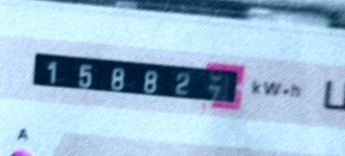1: (43, 58, 60, 85)
2: (173, 69, 190, 95)
5: (75, 61, 94, 88)
7: (206, 81, 221, 101)
8: (108, 65, 126, 92), (141, 67, 158, 94)
screen: (16, 35, 254, 121)
